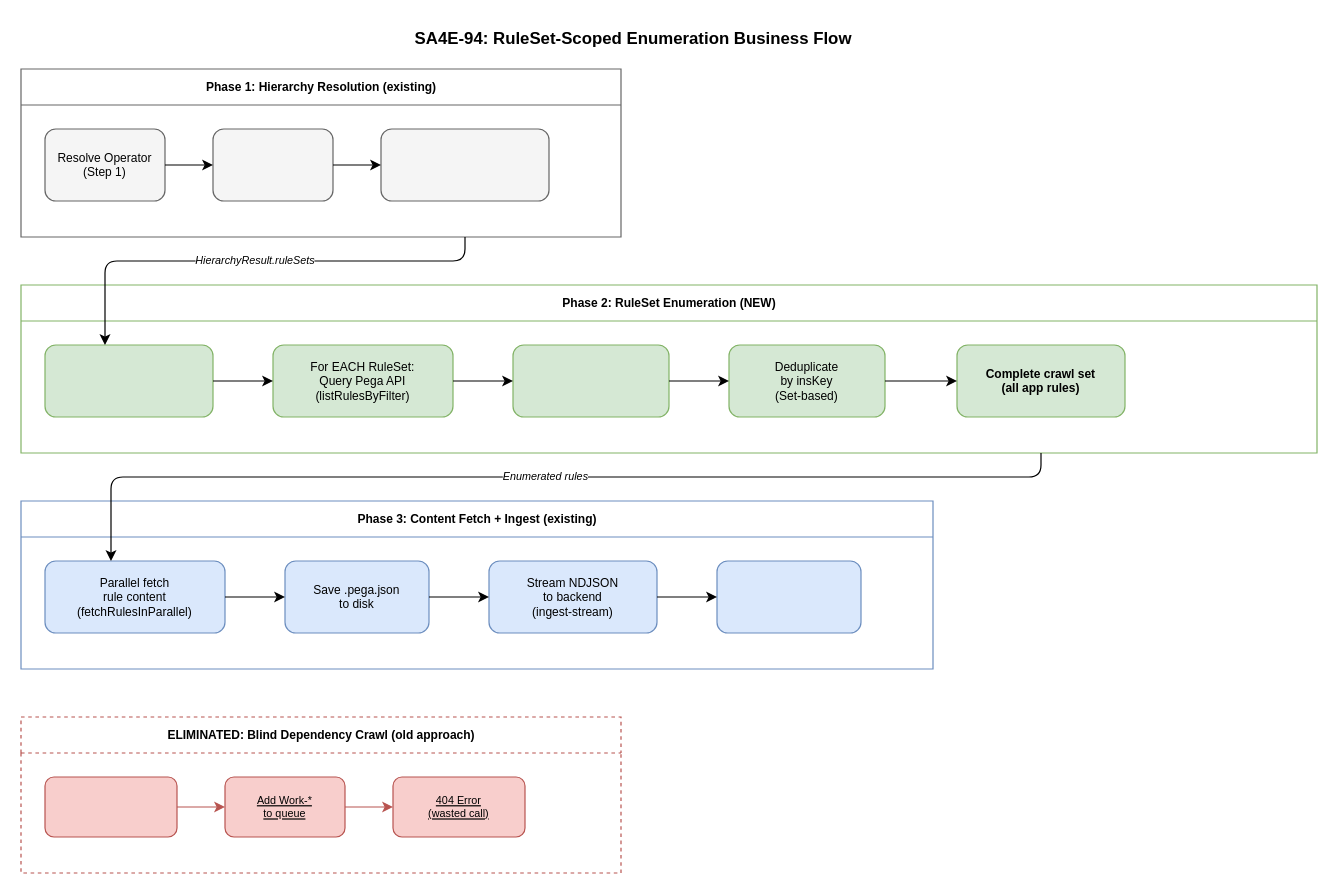
Some shapes in this 1338 by 894 pixel diagram are drawn without their labels. Each missing label, with the centre of its shape:
Extract merged RuleSet list from HierarchyResult: point (128, 380)
Follow ref to @baseclass: point (110, 806)
KB + Graph indexed: point (788, 596)
Paginate until pxMore = false: point (590, 380)
Resolve Access Group (Step 2): point (272, 164)
Resolve App Rule + Dependencies (Steps 3-5): point (464, 164)
